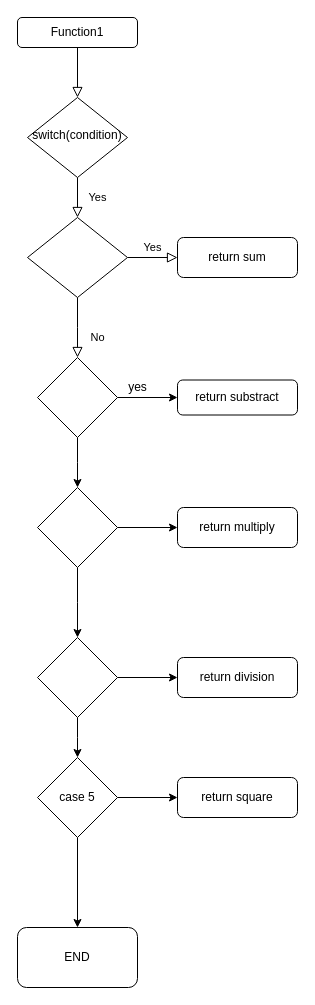
The diagram is 315 pixels wide and 1005 high, and some of its shapes have lost their labels. Each missing label, with the centre of its shape:
case 1: [77,257]
case 2: [77,397]
case 3: [77,527]
case 4: [77,677]
